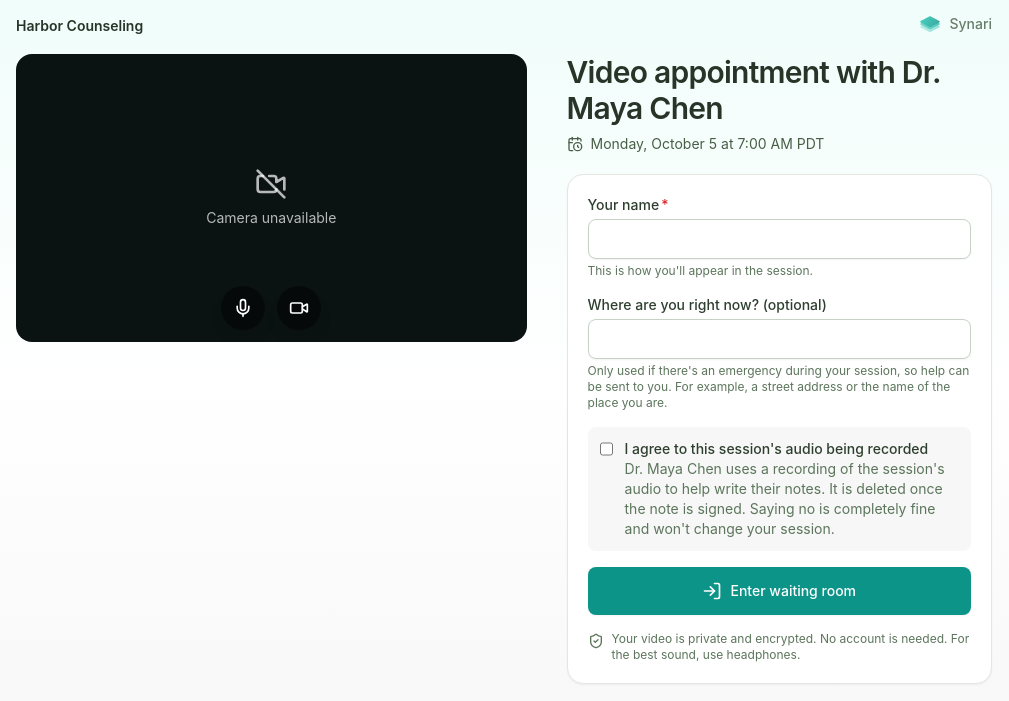
Test: guest join form › checks in with the details given and shows the waiting room
Type "  Alex Rivera " into the field labelled "Your name*". click: (779, 239)
box: 588,219 -> 971,259
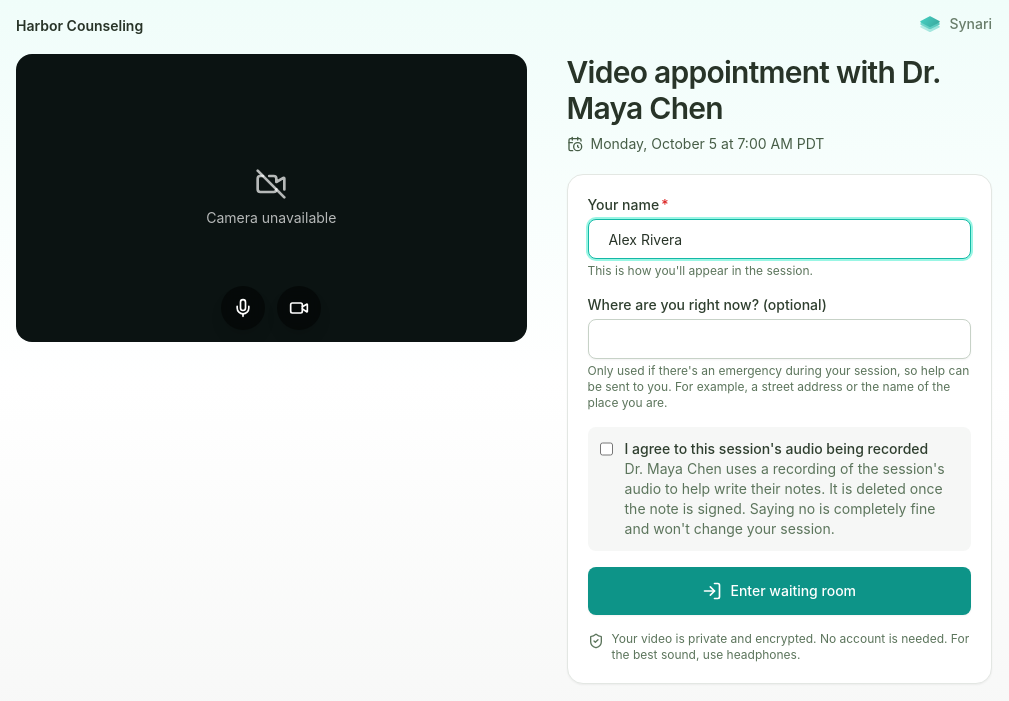
Type "Home, 12 Elm St" into the field labelled "Where are you right now? (optional)". click: (779, 339)
box: 588,319 -> 971,359
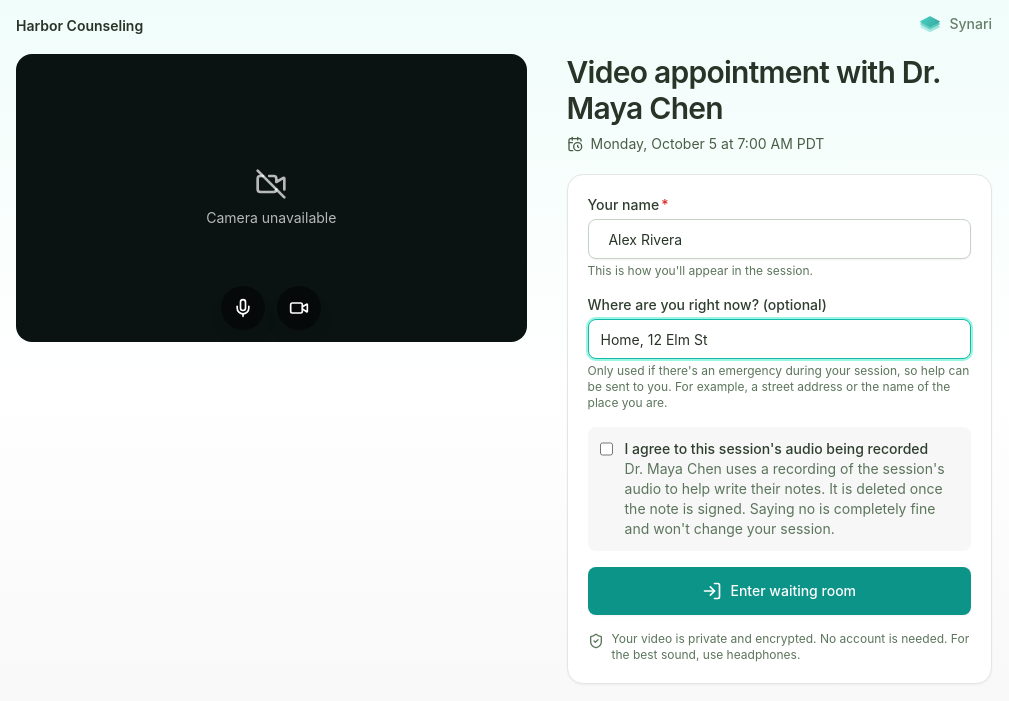
Click the checkbox labelled "I agree to this session's audio being recorded". click: (606, 449)
box: 600,441 -> 612,457
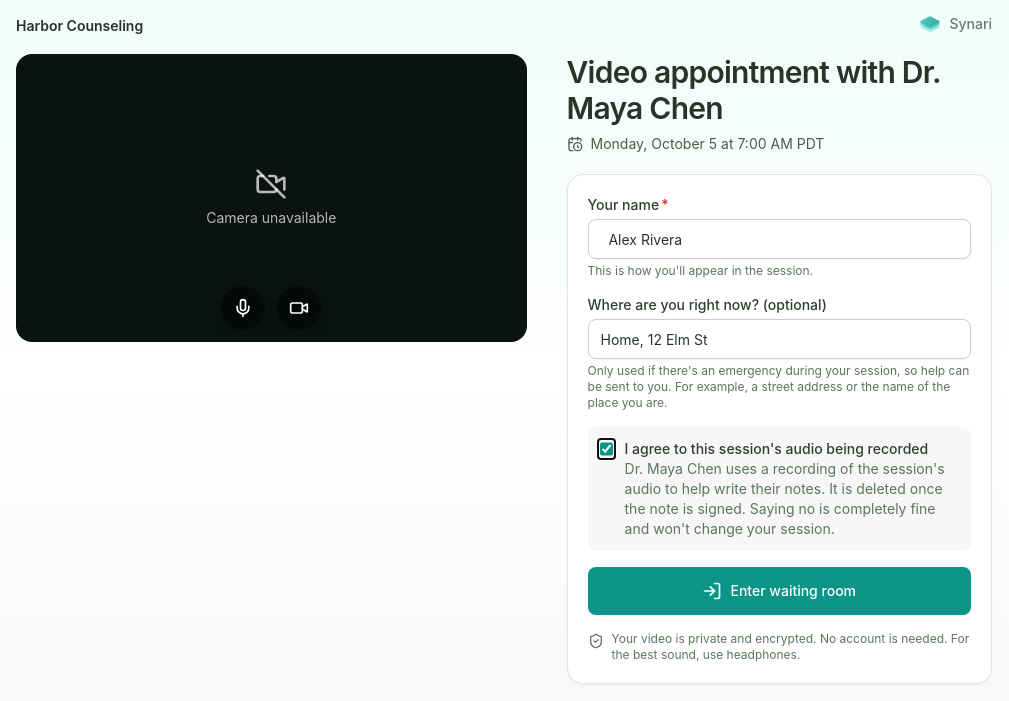
Click the button "Enter waiting room". click: (779, 591)
box: 588,567 -> 971,615
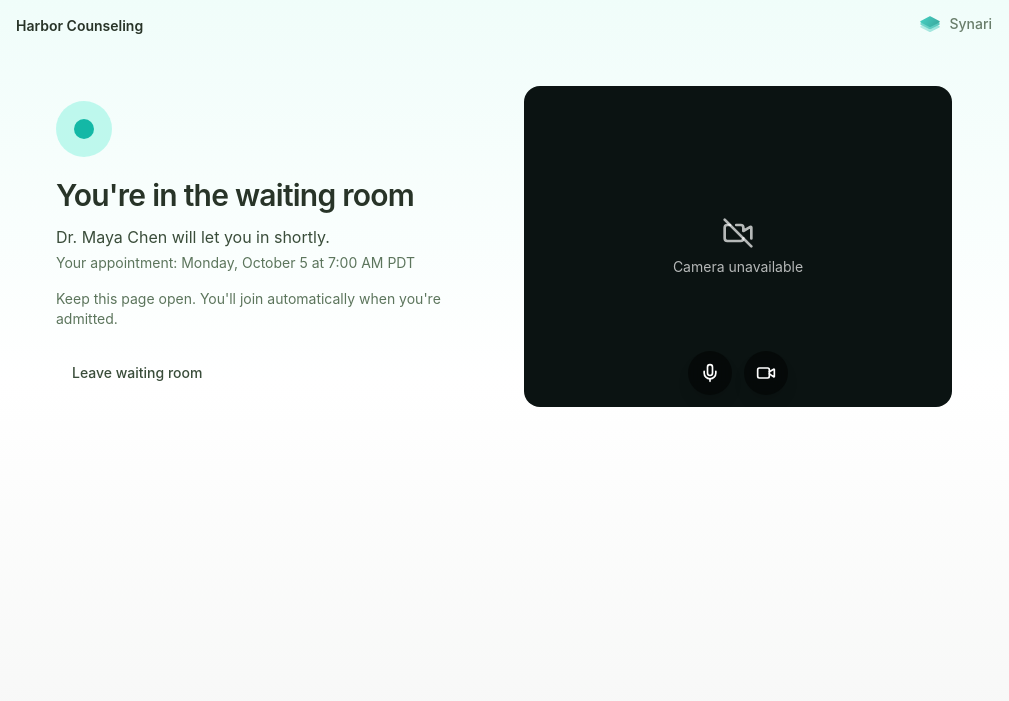
Check: the heading "You're in the waiting room" is shown, box 56,177 -> 414,213
Check: the text "Dr. Maya Chen will let you in shortly." is shown, box 56,227 -> 330,247
